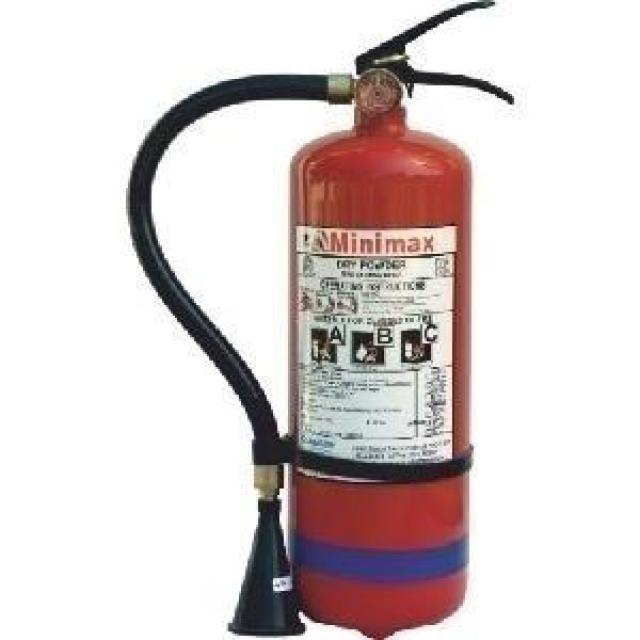fire_extinguisher: (115, 0, 521, 638)
